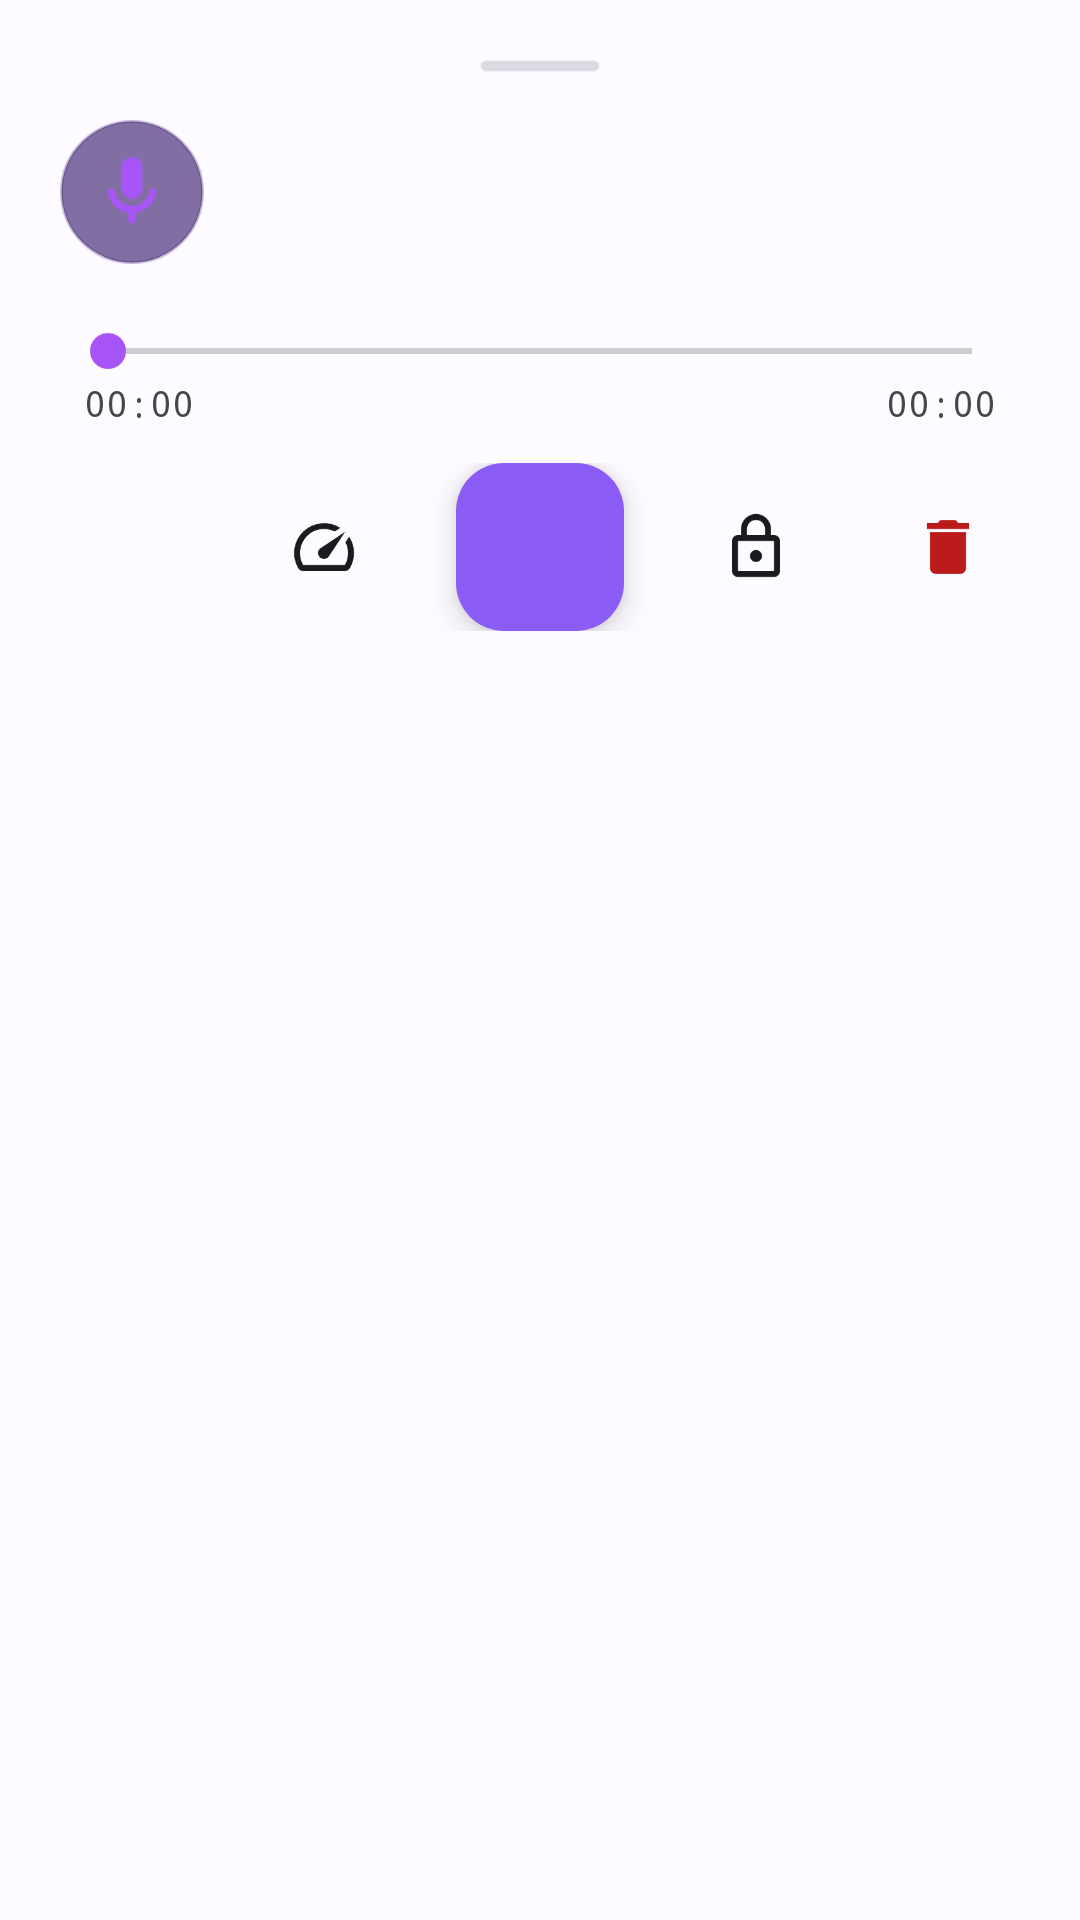

Where to tap for icons on this 1080 × 1920 app screen, as (x,y):
Delete: (948,547)
mic: (132,192)
Vault: (756,545)
